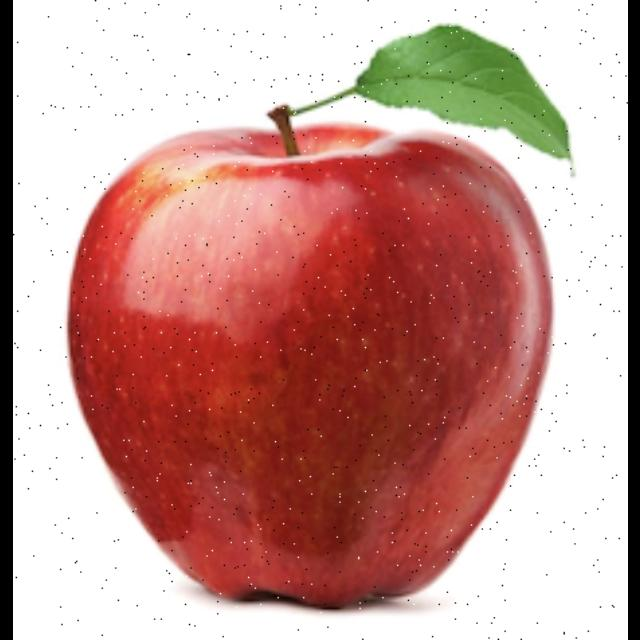Apel Segar: (64, 108, 555, 613)
